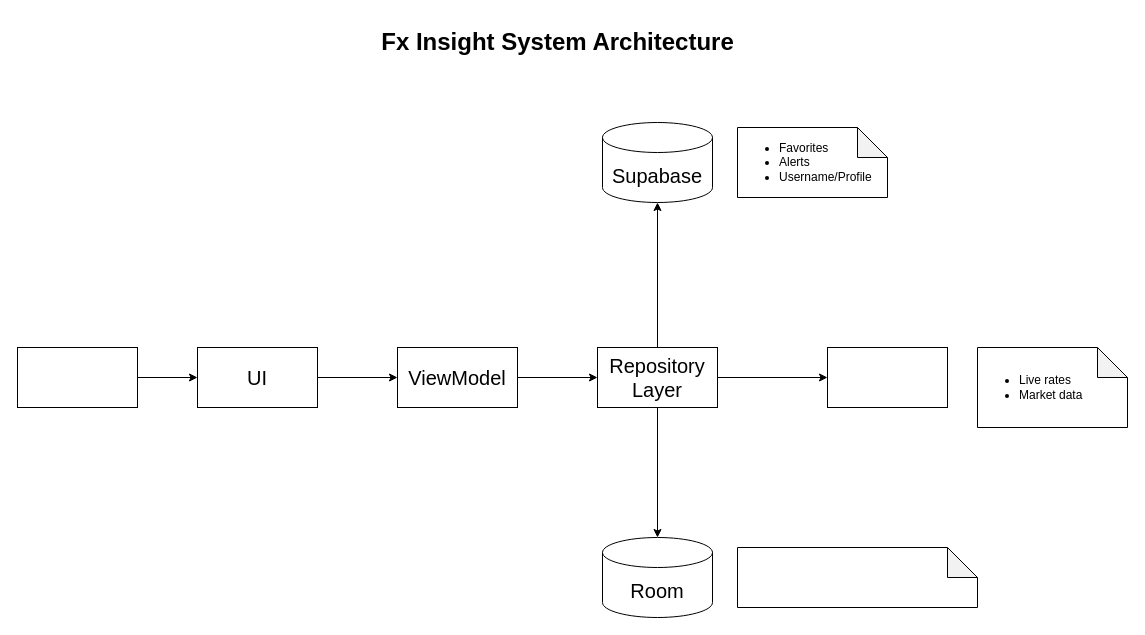
Image size: 1145x635. Some labels were removed from this diagram. Each missing label, with the centre of its shape:
"Exchange Rate recent search history Latest fech market/ rate data with timestamp" belongs at pixel 857 577.
"External API" belongs at pixel 887 377.
"User" belongs at pixel 77 377.
